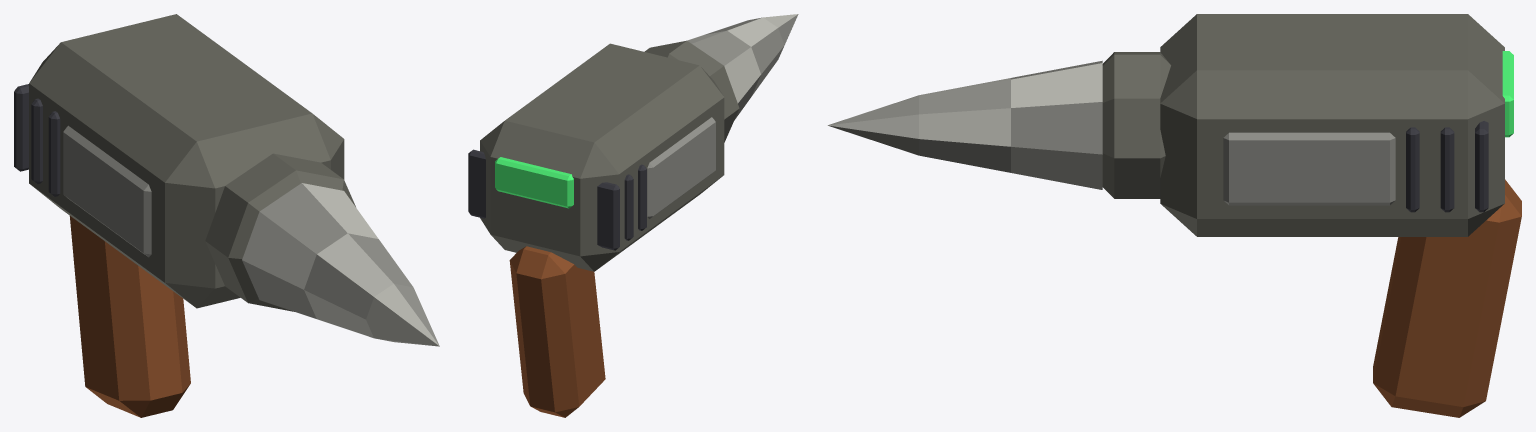
Rendered from StoneDrill.fbx.
The picture shows the model from 3 angles, left to right: view 1: azimuth 30°, elevation 25°; view 2: azimuth 150°, elevation 25°; view 3: azimuth 270°, elevation 25°; orthographic projection. The views are drawn at different scales.
Visible parts, largest first — view 1: StoneDrill; view 2: StoneDrill; view 3: StoneDrill.
Boxes of the visible parts, box(x1,y1,x2,y2) form: StoneDrill: box(14, 14, 439, 417); StoneDrill: box(468, 14, 798, 417); StoneDrill: box(827, 14, 1521, 417).
Bounding box in the file's own units: 0.97 × 1.77 × 3.02.
1 material, 1 textured.
